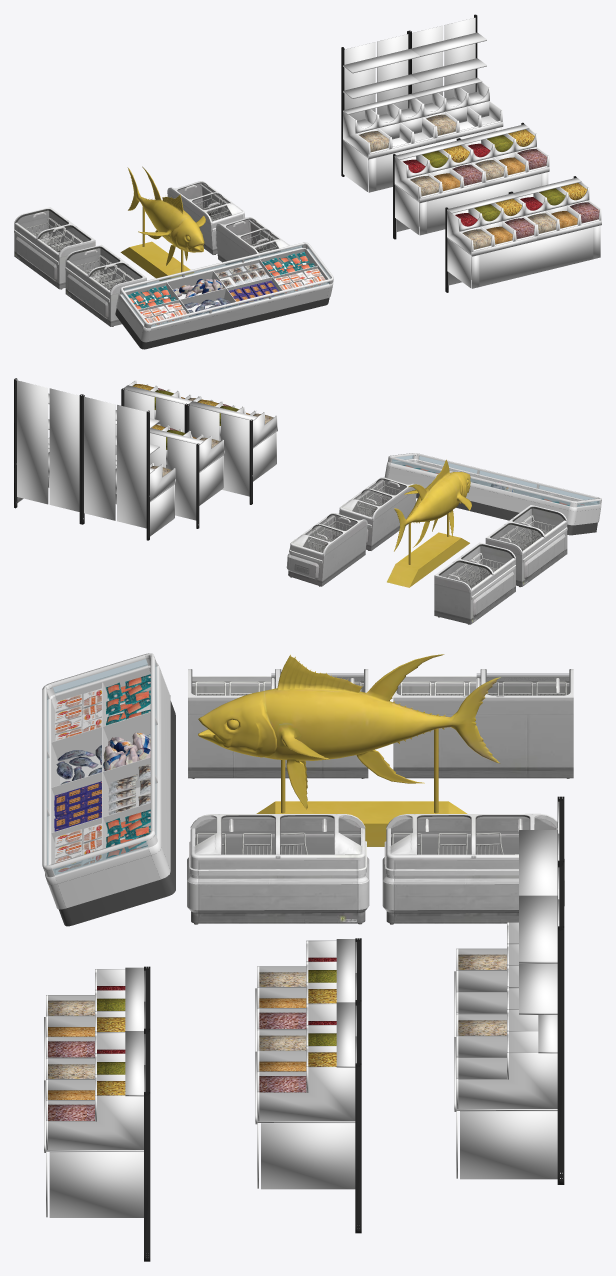
Rendered from thuysan_L3.glb.
3 views of the same model, one above another, from view 1: azimuth 30°, elevation 25°; view 2: azimuth 150°, elevation 25°; view 3: azimuth 270°, elevation 25° (orthographic). The views are drawn at different scales.
Parts seen in each view (by area): view 1: _l3_Beans booth.002, _l3_tu.001, _l3_Beans booth.001, _l3_Beans booth, _l3_Fish gold, _l3_Ice box.002, _l3_Ice box.003, _l3_Ice box, _l3_Ice box.001, _l3_Beans booth_Details; view 2: _l3_Beans booth.002, _l3_Beans booth.001, _l3_tu.001, _l3_Fish gold, _l3_Ice box.002, _l3_Beans booth, _l3_Ice box, _l3_Ice box.003, _l3_Ice box.001; view 3: _l3_tu.001, _l3_Beans booth.002, _l3_Beans booth, _l3_Beans booth.001, _l3_Fish gold, _l3_Ice box.001, _l3_Ice box.002, _l3_Ice box, _l3_Ice box.003, _l3_Beans booth_Details.
Part boxes in pixels (x1,y1,x2,y2): _l3_Beans booth.002: (341,14,503,192); _l3_tu.001: (115,242,333,349); _l3_Beans booth.001: (445,176,601,292); _l3_Beans booth: (393,122,549,239); _l3_Fish gold: (120,166,205,280); _l3_Ice box.002: (14,207,95,289); _l3_Ice box.003: (65,244,146,326); _l3_Ice box: (167,181,245,254); _l3_Ice box.001: (216,217,292,264); _l3_Beans booth_Details: (359,114,456,151); _l3_Beans booth.002: (14,378,175,540); _l3_Beans booth.001: (121,380,277,504); _l3_tu.001: (384,453,601,535); _l3_Fish gold: (387,459,471,587); _l3_Ice box.002: (434,542,515,624); _l3_Beans booth: (115,420,224,528); _l3_Ice box: (286,513,367,586); _l3_Ice box.003: (485,505,567,587); _l3_Ice box.001: (338,477,416,550); _l3_tu.001: (42,653,175,926); _l3_Beans booth.002: (454,796,564,1184); _l3_Beans booth: (255,938,361,1233); _l3_Beans booth.001: (44,966,150,1261); _l3_Fish gold: (198,654,500,846); _l3_Ice box.001: (187,814,369,924); _l3_Ice box.002: (393,669,573,778); _l3_Ice box: (382,813,564,924); _l3_Ice box.003: (188,669,368,778); _l3_Beans booth_Details: (458,954,506,1035).
Bounding box in the file's own units: 12.92 × 4.52 × 6.45.
Materials: 33 (26 with a texture image).
